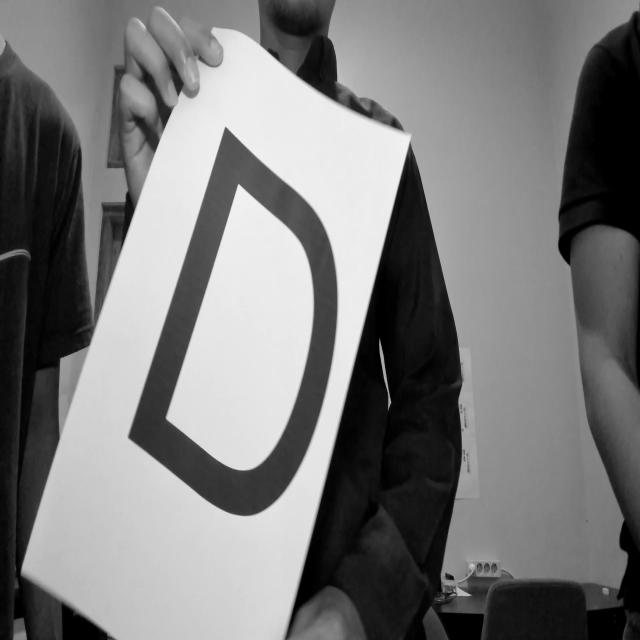d: (121, 104, 347, 540)
